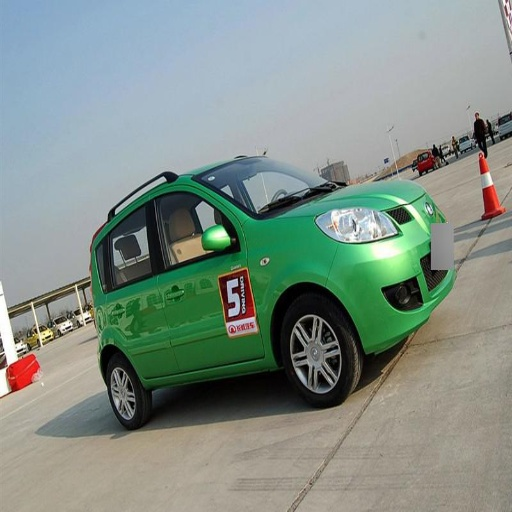front_right_door: (157, 193, 242, 360)
front_right_light: (317, 207, 400, 242)
